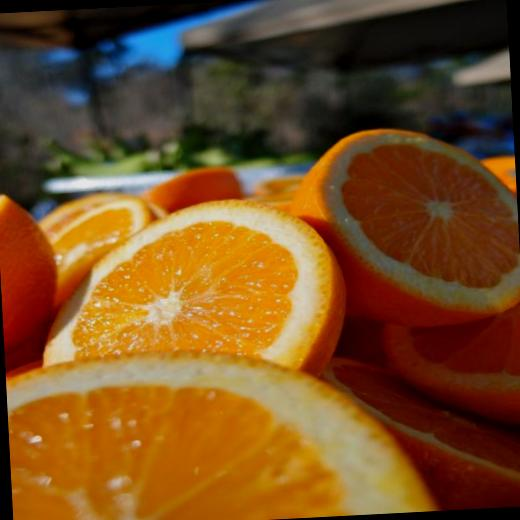Grape: (5, 331, 435, 520), (33, 194, 350, 386), (289, 118, 520, 333), (317, 341, 520, 514), (379, 306, 520, 433), (50, 194, 155, 304), (0, 190, 62, 355), (32, 192, 162, 240), (148, 166, 246, 214)
